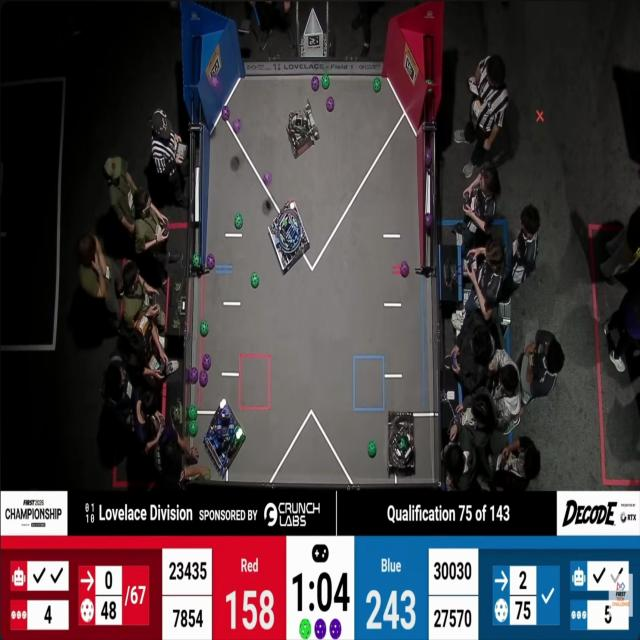artifact_green: (299, 619, 311, 640), (230, 156, 240, 172), (232, 118, 242, 134), (236, 425, 245, 442), (200, 320, 209, 337), (206, 254, 215, 270), (189, 420, 197, 437), (251, 272, 259, 288), (235, 213, 243, 229), (368, 441, 376, 457), (188, 406, 197, 420), (192, 253, 200, 268), (373, 78, 381, 92), (322, 75, 330, 89), (399, 438, 407, 451), (203, 469, 211, 480), (426, 79, 433, 84), (427, 79, 433, 84)
artifact_purple: (330, 619, 341, 639), (315, 619, 326, 639), (206, 254, 215, 270), (326, 96, 335, 112), (209, 75, 219, 89), (200, 370, 208, 387), (203, 354, 211, 371), (401, 261, 409, 277), (190, 368, 198, 383), (425, 213, 432, 230), (263, 172, 272, 185), (426, 147, 432, 166), (233, 119, 241, 133), (222, 106, 229, 121), (312, 76, 319, 91)
